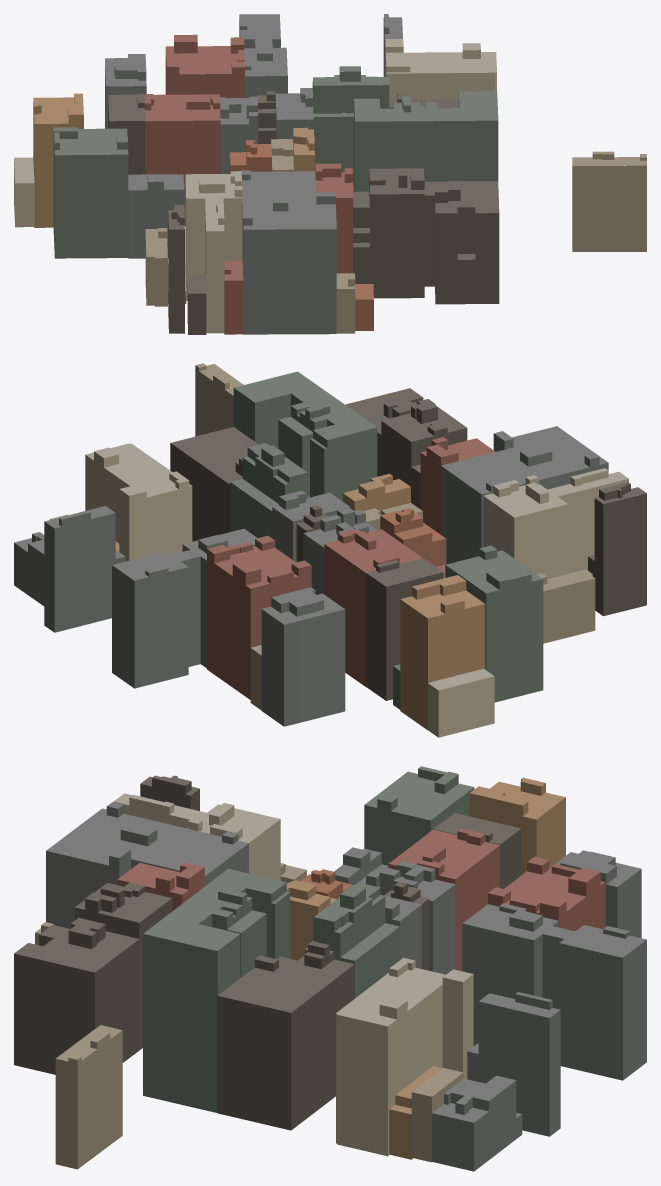
Rendered from tile-2_-6.glb.
3 views of the same model, one above another, from view 1: azimuth 30°, elevation 25°; view 2: azimuth 150°, elevation 25°; view 3: azimuth 270°, elevation 25° (orthographic). The views are drawn at different scales.
Parts seen in each view (by area): view 1: wall, roof; view 2: wall, roof; view 3: wall, roof.
Boxes of the visible parts, box(x1,y1,x2,y2) form: wall: box(14, 18, 646, 334); roof: box(14, 14, 646, 299); wall: box(14, 365, 646, 737); roof: box(14, 363, 646, 690); wall: box(14, 768, 646, 1171); roof: box(14, 766, 646, 1122).
Bounding box in the file's own units: 219 × 64.32 × 211.
